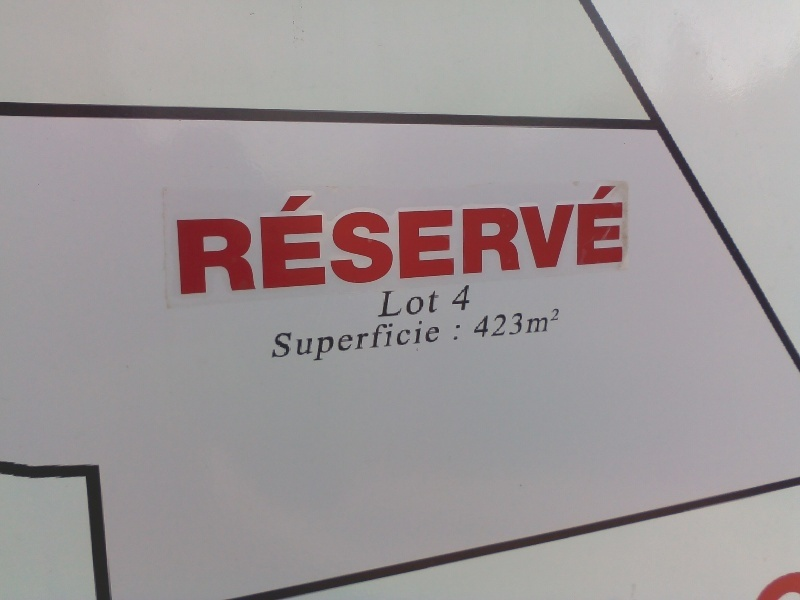text: (177, 182, 192, 299), (193, 182, 208, 299), (209, 182, 224, 299), (225, 182, 240, 299), (241, 182, 256, 299), (257, 182, 272, 299), (273, 182, 288, 299), (289, 182, 304, 299), (305, 182, 320, 299), (321, 182, 336, 299), (337, 182, 352, 299), (353, 182, 368, 299), (369, 182, 384, 299), (385, 182, 400, 299), (401, 182, 416, 299), (417, 182, 432, 299), (433, 182, 448, 299), (449, 182, 464, 299), (465, 182, 480, 299), (481, 182, 496, 299), (497, 182, 512, 299), (513, 182, 528, 299), (529, 182, 544, 299), (545, 182, 560, 299), (561, 182, 576, 299), (577, 182, 592, 299), (593, 182, 608, 299), (609, 182, 624, 299), (625, 182, 634, 299), (289, 316, 304, 367), (305, 316, 320, 367), (321, 316, 336, 367), (337, 316, 352, 367), (353, 316, 368, 367), (369, 316, 384, 367), (385, 316, 400, 367), (401, 316, 416, 367), (417, 316, 432, 367), (274, 316, 288, 367), (433, 316, 445, 367), (545, 306, 561, 341), (481, 306, 496, 341), (497, 306, 512, 341), (513, 306, 528, 341), (529, 306, 544, 341), (385, 290, 400, 319), (401, 290, 416, 319), (417, 290, 432, 319), (452, 283, 464, 311), (433, 290, 443, 319), (473, 306, 480, 341), (454, 322, 464, 345), (465, 283, 472, 311), (378, 290, 384, 319)
